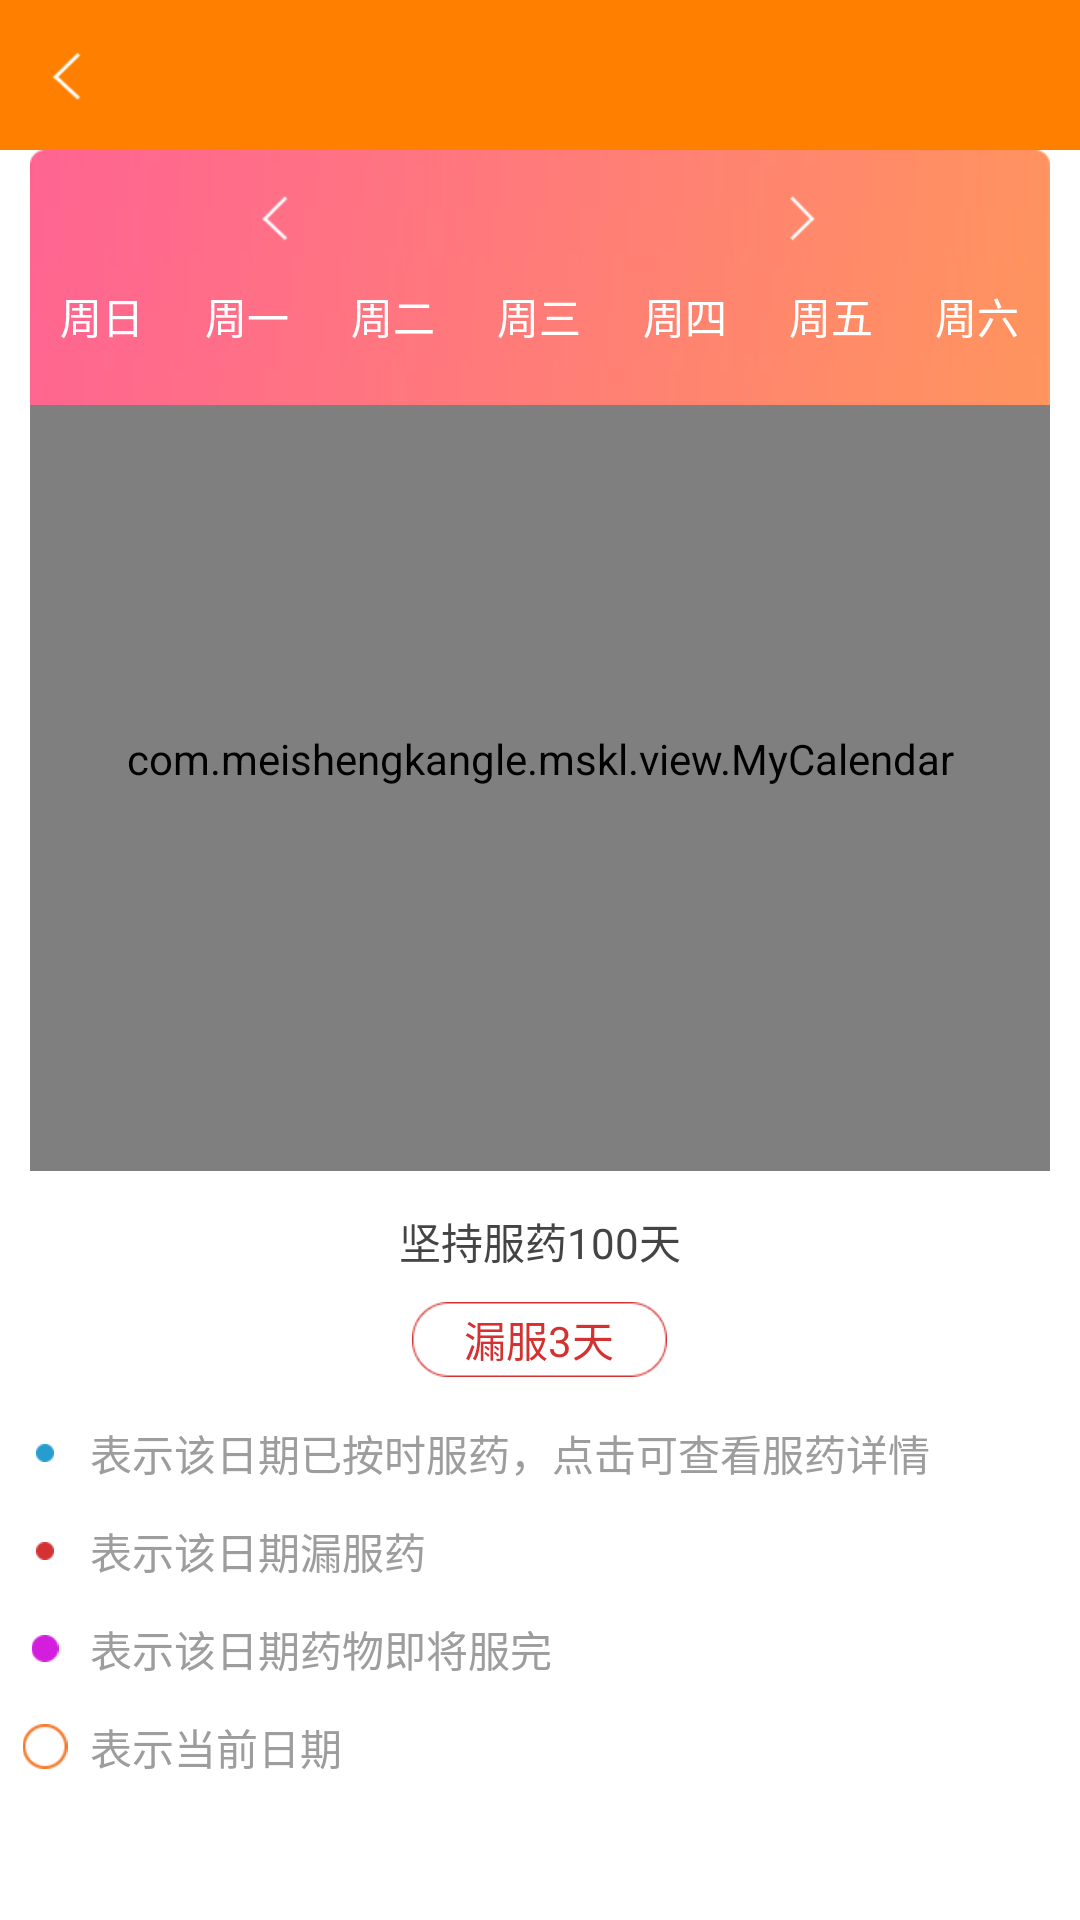

Named icons in this screenshot (1080w x 1920h) and their centers, [x,y]:
calendar left: [274,218]
calendar right: [802,218]
title back: [67,76]
